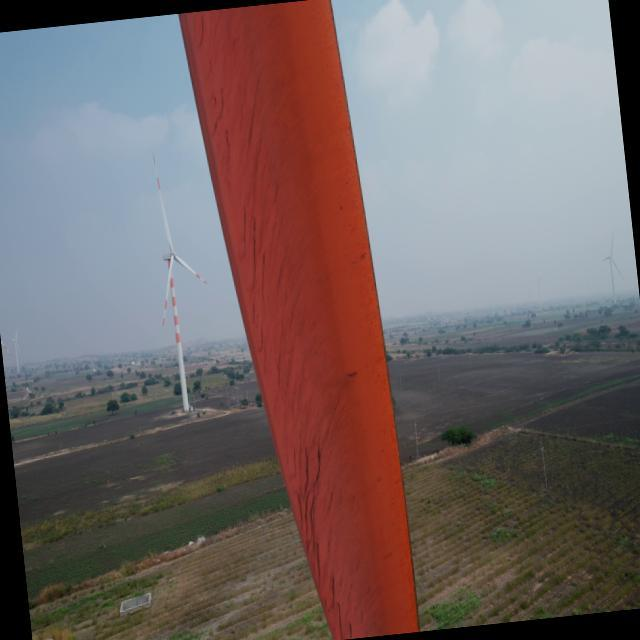Dirt: (173, 7, 368, 640)
